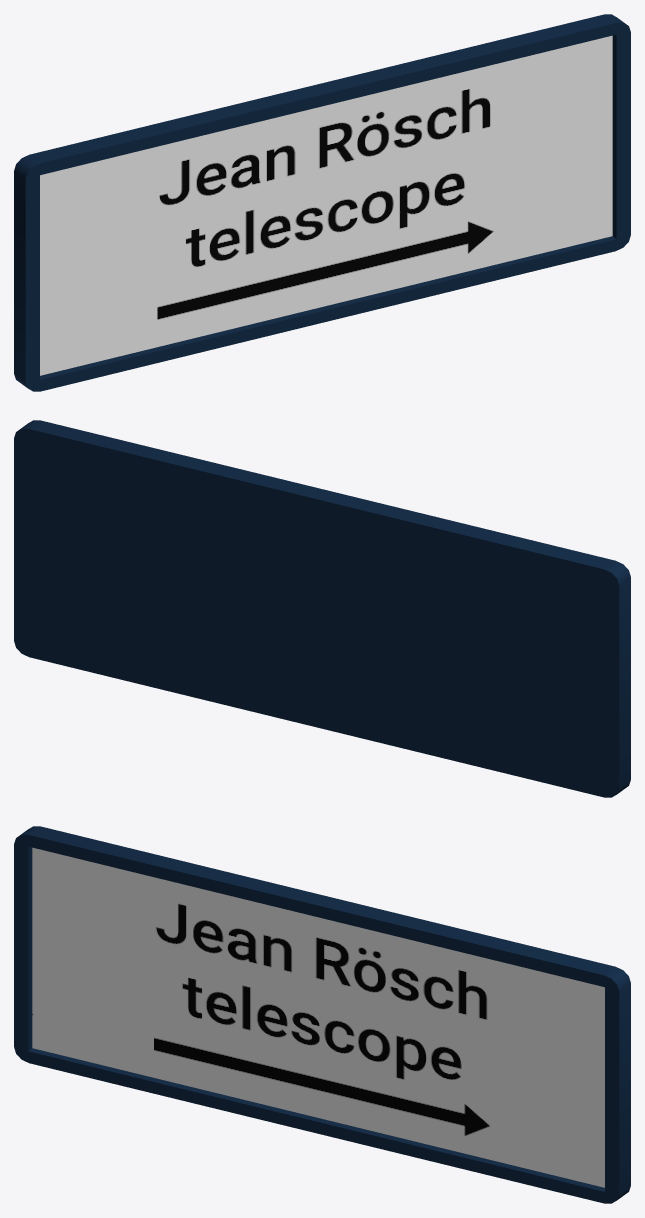
File: Pic du midi - Jean Rösch telescope.fbx
The picture shows the model from 3 angles, top to bottom: view 1: azimuth 30°, elevation 25°; view 2: azimuth 150°, elevation 25°; view 3: azimuth 330°, elevation 25°; orthographic projection.
Parts seen in each view (by area): view 1: CLIMSO; view 2: CLIMSO; view 3: CLIMSO.
Boxes of the visible parts, x1=… form: CLIMSO: x1=14, y1=14, x2=630, y2=391; CLIMSO: x1=14, y1=420, x2=630, y2=797; CLIMSO: x1=14, y1=826, x2=630, y2=1203.
Bounding box in the file's own units: 415 × 149 × 13.93.
